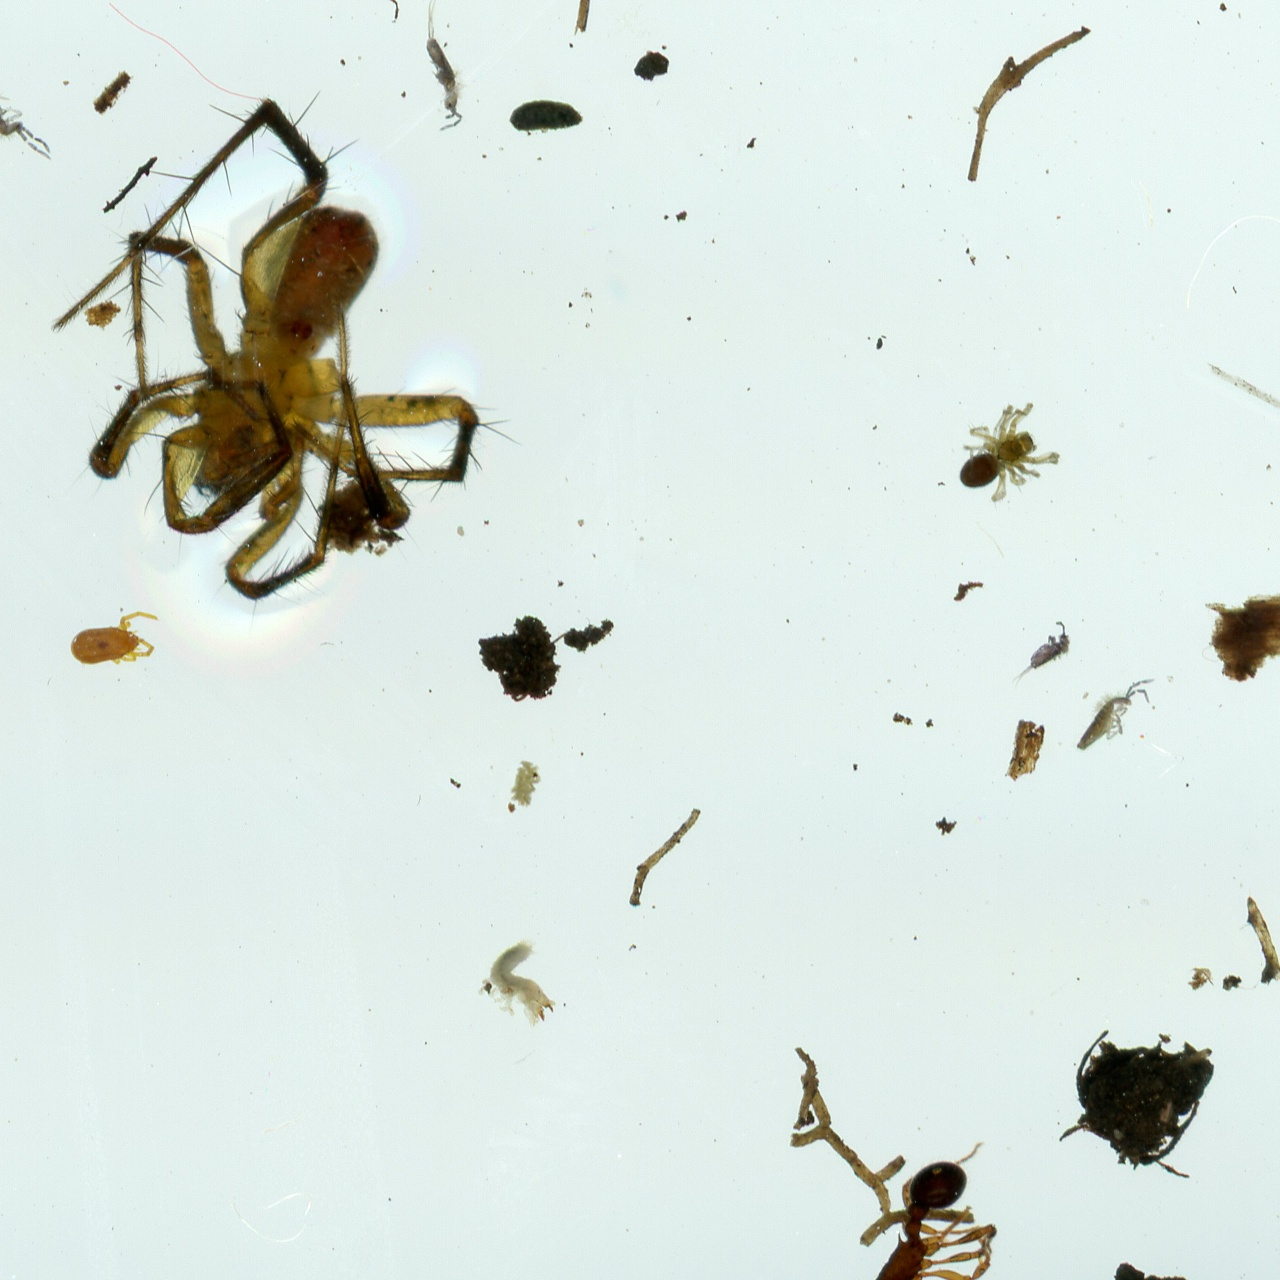arthropod: (40, 90, 528, 633), (845, 1137, 1006, 1280), (1055, 651, 1171, 787), (954, 392, 1067, 508), (0, 39, 81, 182), (999, 604, 1095, 703), (414, 0, 472, 142), (60, 609, 158, 667)
